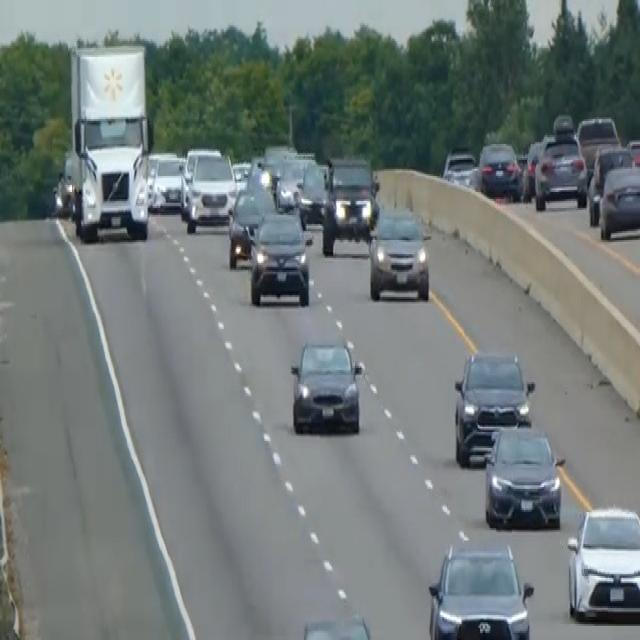car: (426, 539, 534, 638), (452, 346, 535, 466), (483, 421, 565, 530), (566, 503, 639, 624), (289, 334, 363, 436), (248, 206, 313, 308), (367, 205, 430, 302), (320, 153, 379, 254), (183, 149, 237, 231), (227, 180, 276, 268), (534, 132, 588, 210), (587, 142, 635, 226), (598, 162, 639, 240), (179, 144, 221, 212), (478, 139, 522, 201), (576, 112, 621, 172), (274, 153, 314, 210), (148, 151, 185, 212), (296, 158, 328, 226), (297, 612, 375, 638), (52, 147, 75, 217), (442, 144, 478, 188), (522, 139, 544, 197), (230, 156, 251, 192), (625, 135, 639, 169)
lorry: (65, 39, 153, 242)
